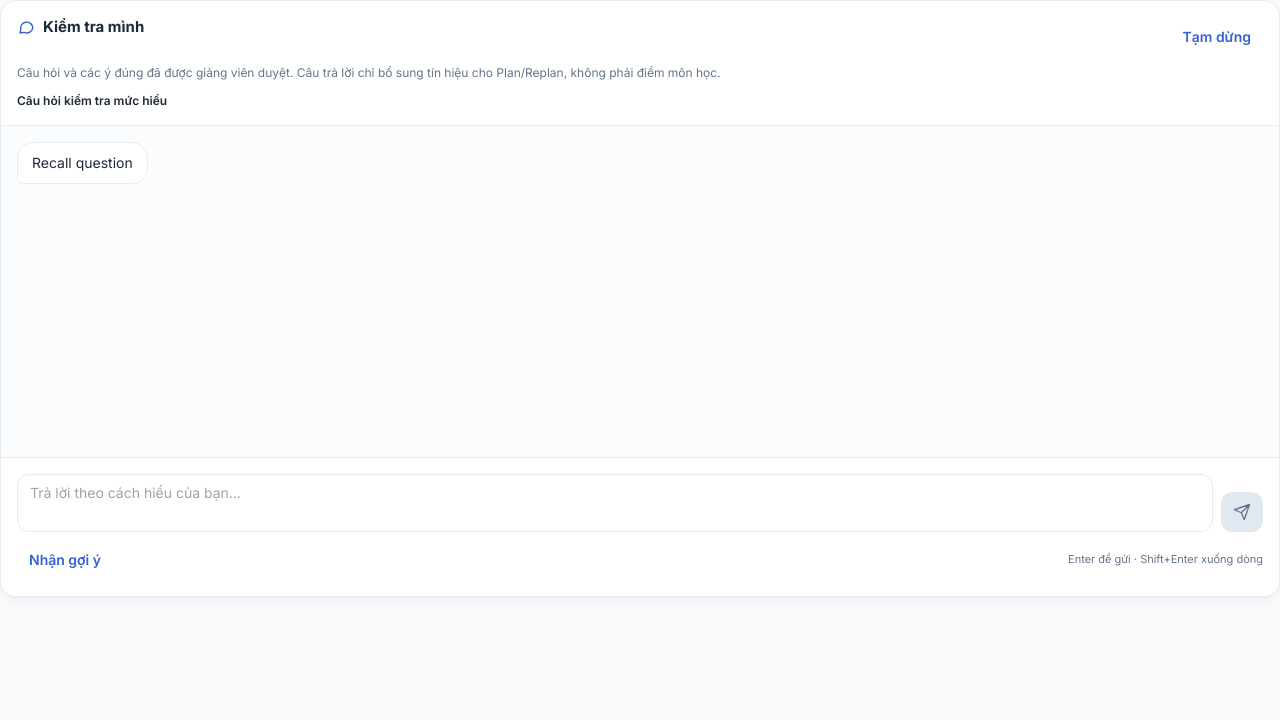
Scenario: Adaptive Do checkpoint › shows the next approved question without exposing diagnostic rubric internals
Expected: the text "Recall question" is shown, [32,153,133,173]
Expected: the button "Nhận gợi ý" is enabled, [17,540,113,580]
Type "my answer" into the text box named "Trả lời bằng lời của bạn".
click(615, 503); type("my answer")  # box [17,474,1213,532]
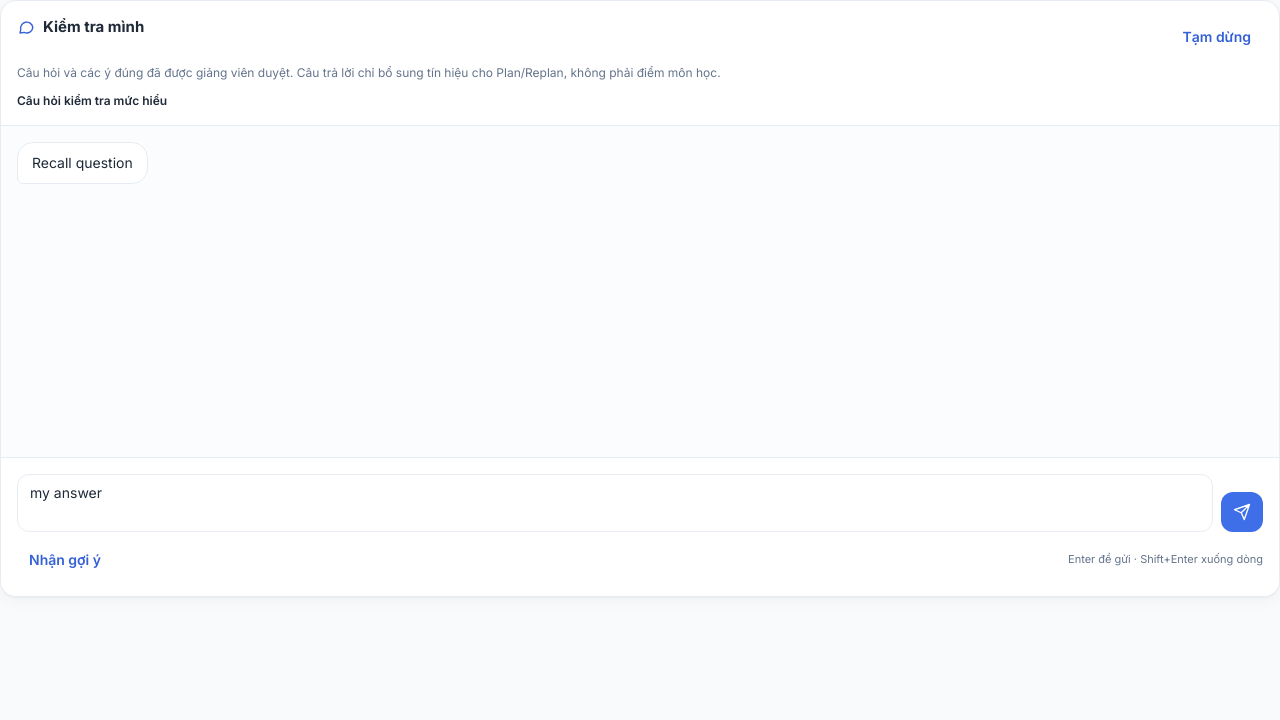
Click the button named "Gửi câu trả lời".
click(1242, 512)  # box [1221,492,1263,532]
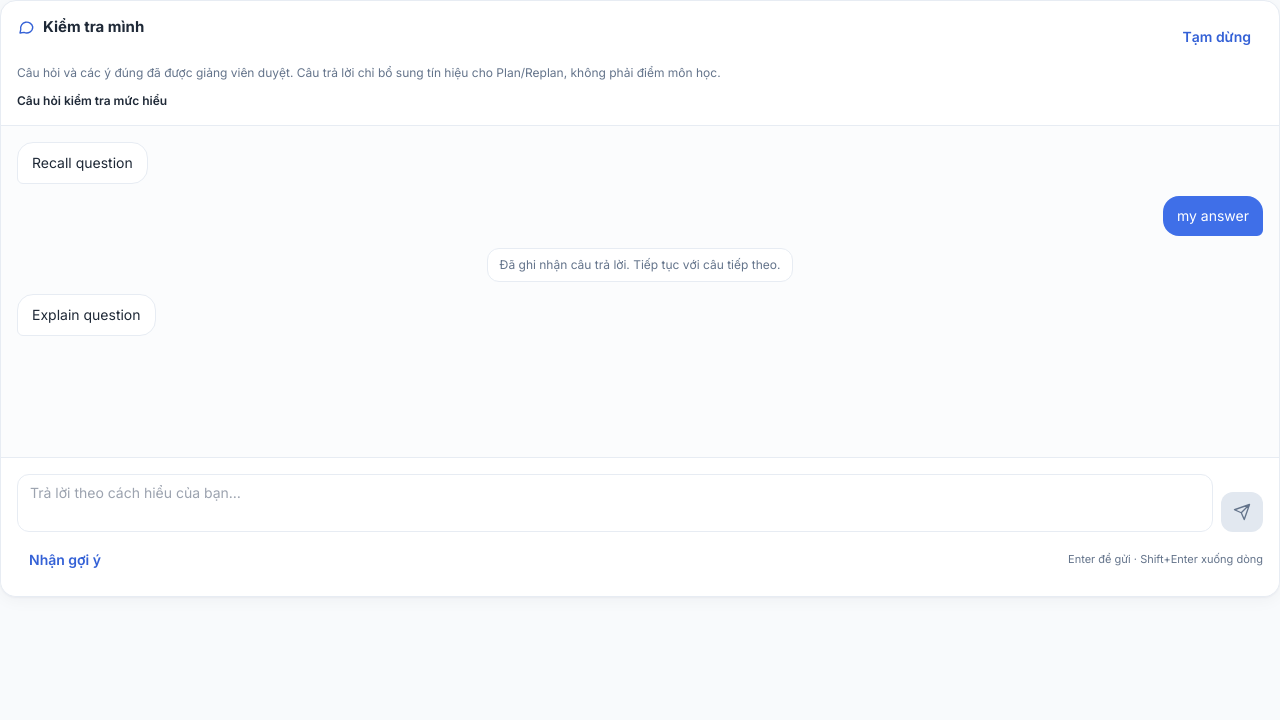
Result: the text "Explain question" is shown at [32,305,140,325]
Result: the text box named "Trả lời bằng lời của bạn" is empty at [17,474,1213,532]
Result: the text "Đã ghi nhận câu trả lời. Tiếp tục với câu tiếp theo." is shown at [500,257,780,273]
